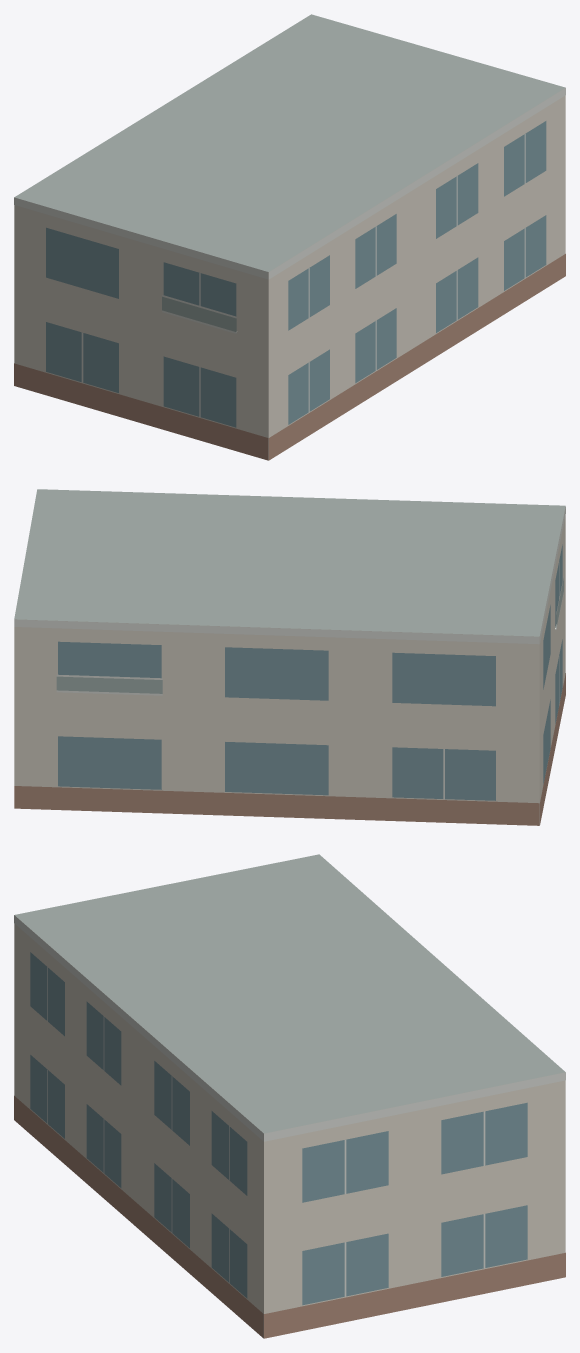
File: survey-upis-32967628.glb
3 renders of one model, top to bottom at view 1: azimuth 30°, elevation 25°; view 2: azimuth 150°, elevation 25°; view 3: azimuth 270°, elevation 25°, orthographic. The views are drawn at different scales.
Visible parts, largest first — view 1: survey-upis-32967628.tmp; view 2: survey-upis-32967628.tmp; view 3: survey-upis-32967628.tmp.
Boxes of the visible parts, x1,y1,x2,y2 form: survey-upis-32967628.tmp: [14, 14, 565, 460]; survey-upis-32967628.tmp: [14, 489, 565, 825]; survey-upis-32967628.tmp: [14, 854, 565, 1338].
Size of the model in its own units: 17.83 by 6.1 by 14.88.
